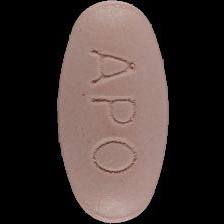60505-0248: (0, 0, 224, 224)
